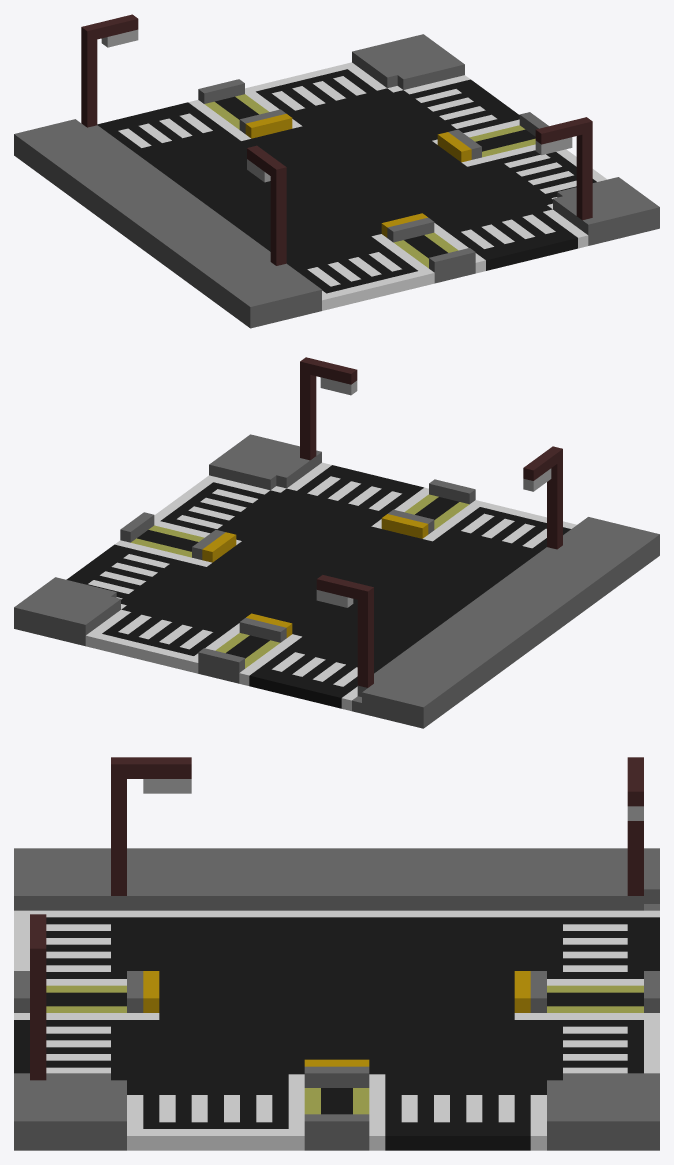
The model's file is RoadTJunction01.fbx.
3 views of the same model, one above another, from view 1: azimuth 30°, elevation 25°; view 2: azimuth 150°, elevation 25°; view 3: azimuth 270°, elevation 25° (orthographic). The views are drawn at different scales.
Parts seen in each view (by area): view 1: ObjObject; view 2: ObjObject; view 3: ObjObject.
Boxes of the visible parts, left/top/right/bottom form: ObjObject: left=14, top=14, right=659, bottom=328; ObjObject: left=14, top=357, right=659, bottom=728; ObjObject: left=14, top=757, right=659, bottom=1150.
Size of the model in its own units: 400 by 400 by 110.
Materials: 1 (1 with a texture image).
